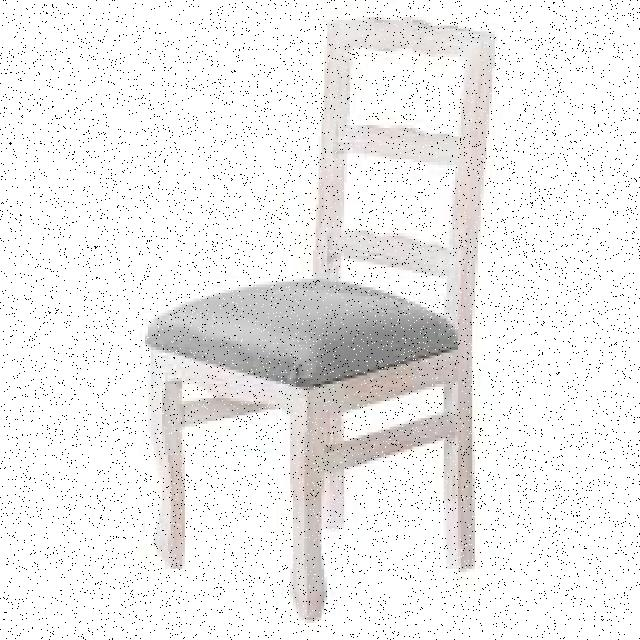bottle: (142, 15, 499, 626)
